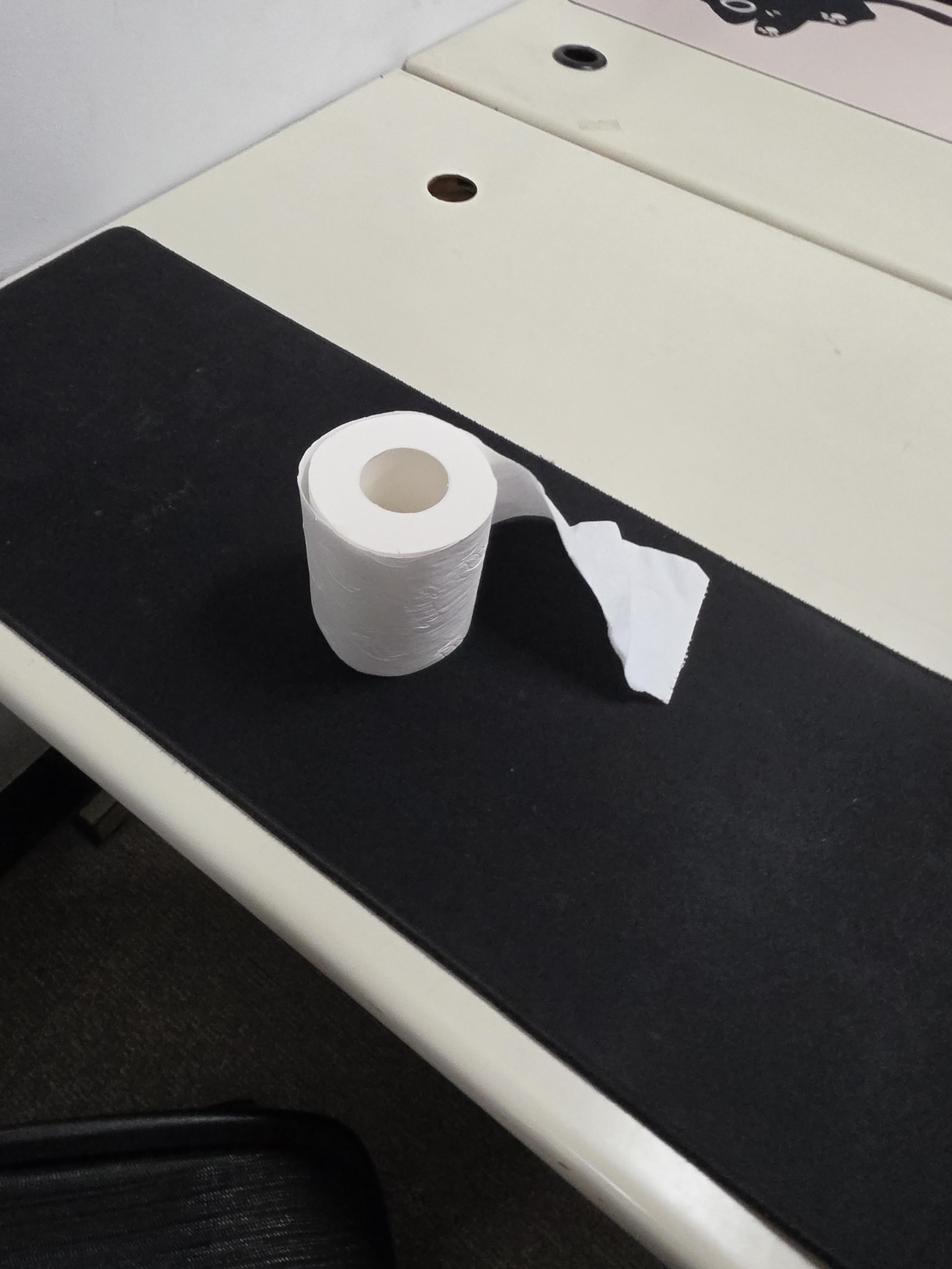tissue: (296, 411, 710, 705)
